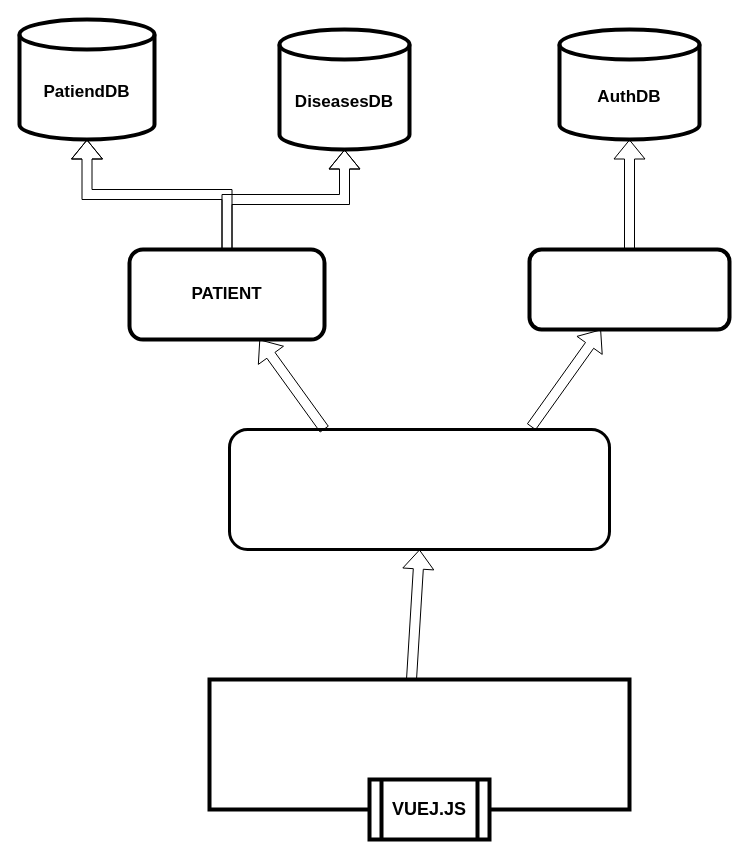
The diagram is 748 pixels wide and 861 high, and some of its shapes have lost their labels. Each missing label, with the box of its shape:
APY Gateway: (228, 428, 610, 550)
AUTH: (527, 247, 731, 331)
COMPONENTE WEB: (207, 677, 631, 811)
